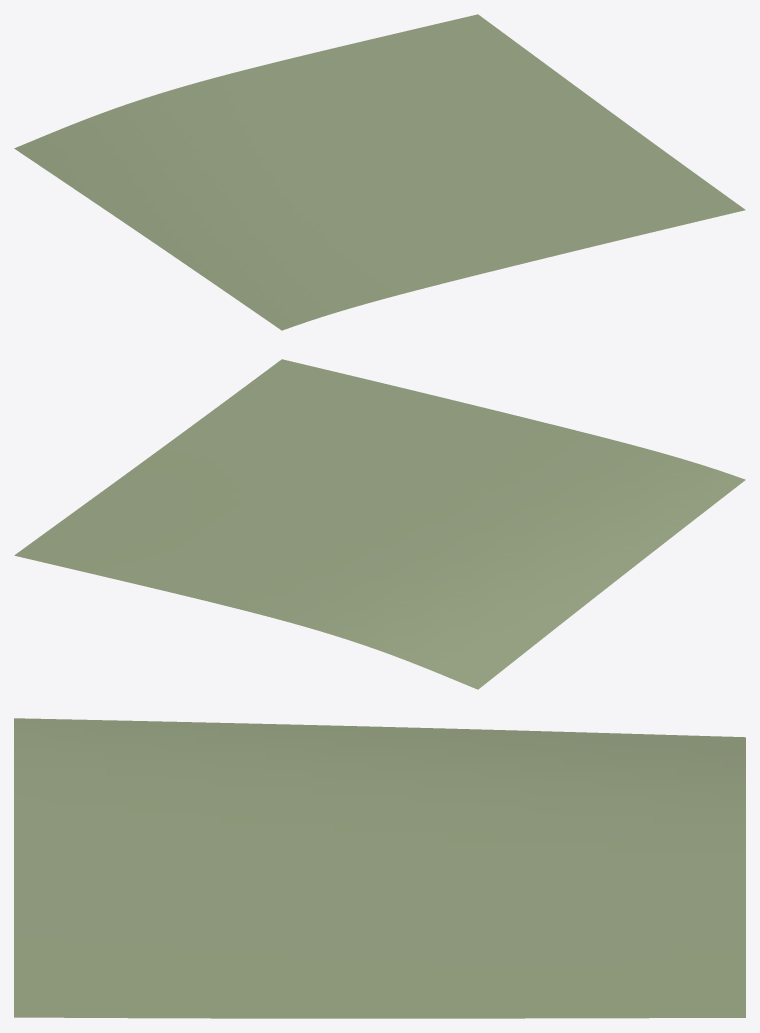
Rendered from desert-14-4.glb.
The picture shows the model from 3 angles, top to bottom: view 1: azimuth 30°, elevation 25°; view 2: azimuth 150°, elevation 25°; view 3: azimuth 270°, elevation 25°; orthographic projection. The views are drawn at different scales.
Parts seen in each view (by area): view 1: desert-14-4; view 2: desert-14-4; view 3: desert-14-4.
Part boxes in pixels (box(x1,y1,x2,y2)): desert-14-4: box(14, 14, 745, 330); desert-14-4: box(14, 359, 745, 689); desert-14-4: box(14, 718, 745, 1018).
Size of the model in its own units: 512 by 23.64 by 512.
